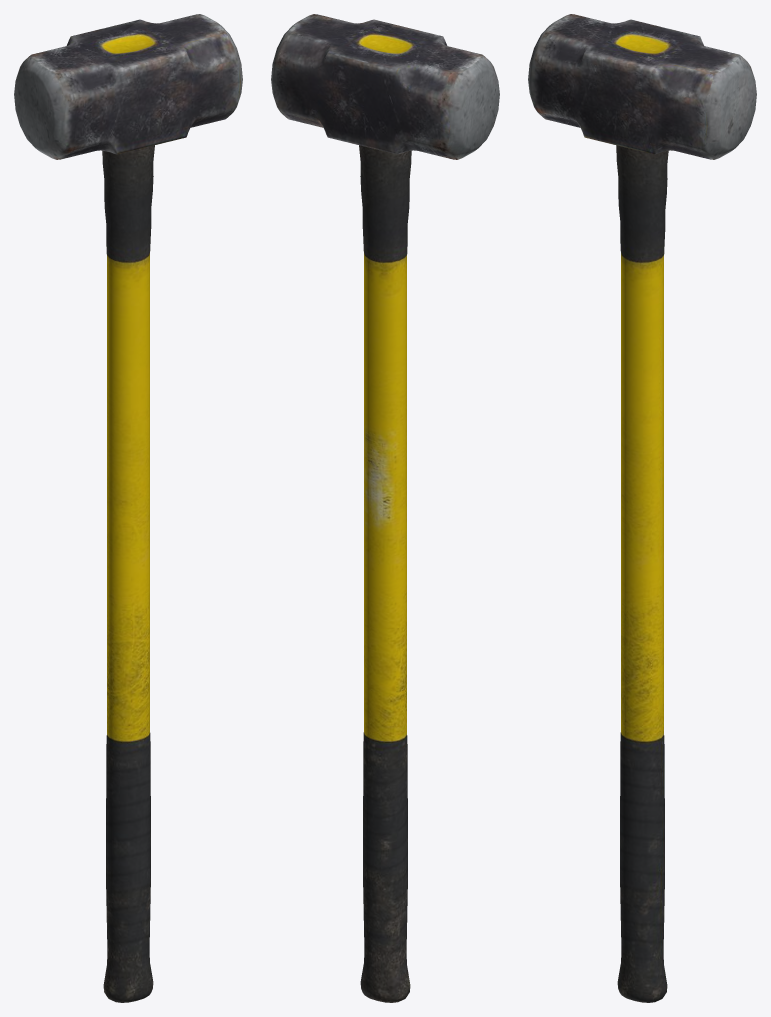
The model's file is sledgehammer_01.glb.
The picture shows the model from 3 angles, left to right: view 1: azimuth 30°, elevation 25°; view 2: azimuth 150°, elevation 25°; view 3: azimuth 330°, elevation 25°; orthographic projection.
Visible parts, largest first — view 1: sledgehammer_01; view 2: sledgehammer_01; view 3: sledgehammer_01.
Boxes of the visible parts, <box> form: sledgehammer_01: <box>14,14,242,1002</box>; sledgehammer_01: <box>271,14,499,1002</box>; sledgehammer_01: <box>528,14,756,1002</box>.
Bounding box in the file's own units: 0.2082 × 1.01 × 0.0905.
1 material, 1 textured.
